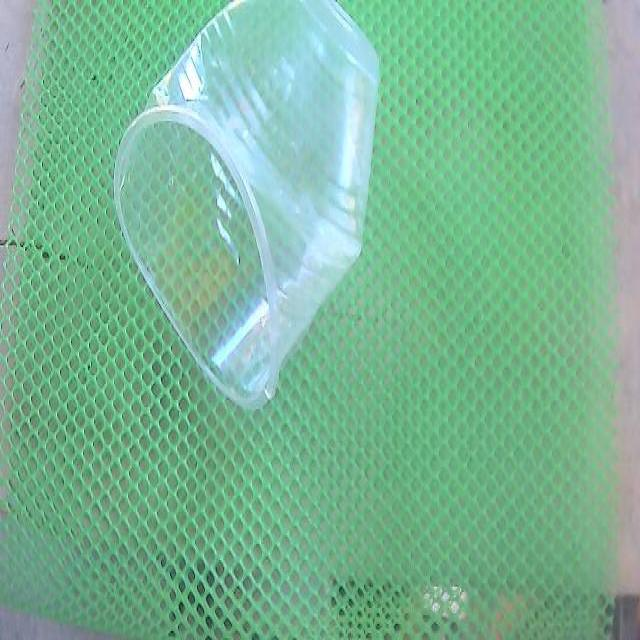bottle: (114, 2, 379, 407)
